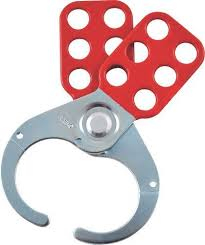hasp: (1, 1, 203, 244)
